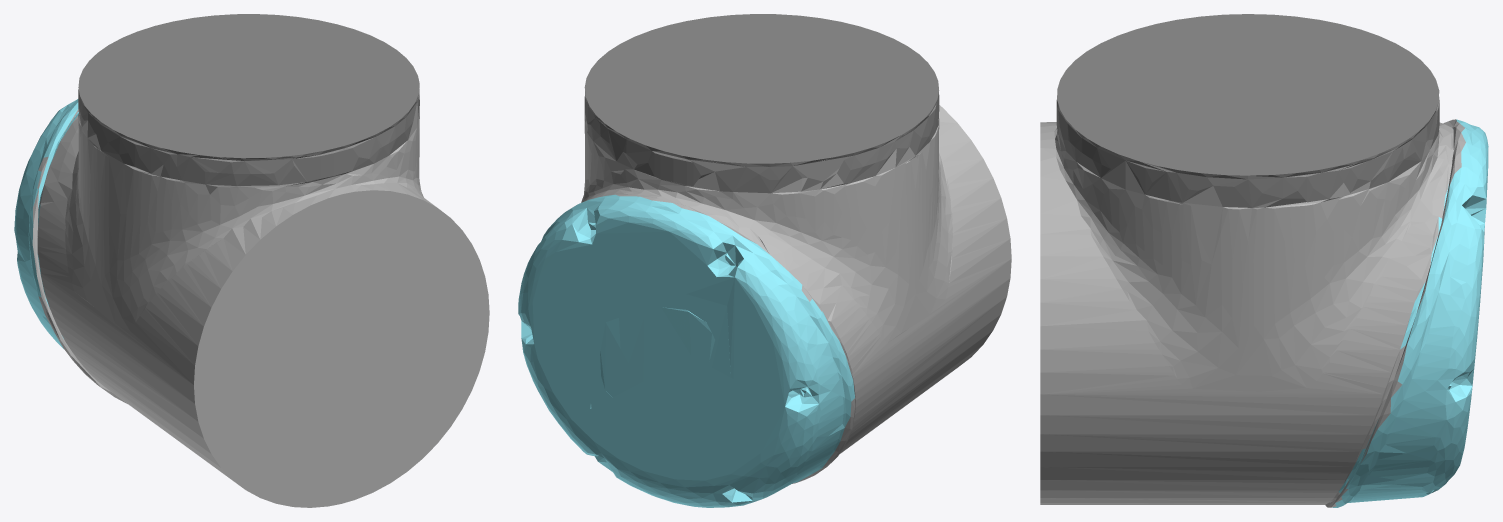
File: UR10eLink1.dae
3 views of the same model, side by side, from view 1: azimuth 30°, elevation 25°; view 2: azimuth 150°, elevation 25°; view 3: azimuth 270°, elevation 25° (orthographic). The views are drawn at different scales.
Parts seen in each view (by area): view 1: UR10eLink1; view 2: UR10eLink1; view 3: UR10eLink1.
Part boxes in pixels (x1=…): UR10eLink1: x1=14, y1=14, x2=489, y2=507; UR10eLink1: x1=518, y1=14, x2=1011, y2=507; UR10eLink1: x1=1040, y1=14, x2=1488, y2=507.
Size of the model in its own units: 0.1525 by 0.1756 by 0.1708.
